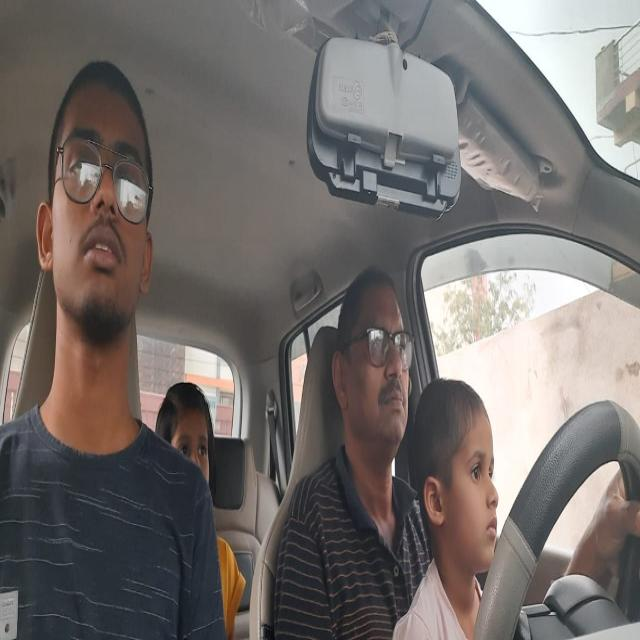child: (413, 381, 500, 559)
person: (37, 78, 158, 341), (334, 277, 412, 458), (160, 382, 212, 491)
